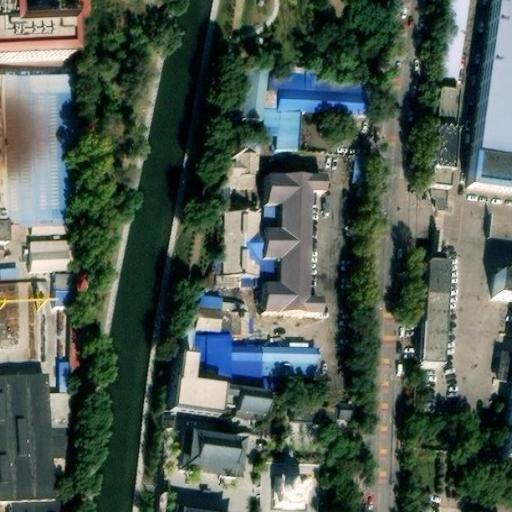building: (466, 0, 512, 197), (261, 176, 321, 316), (263, 67, 365, 115), (0, 0, 66, 65), (428, 0, 467, 91), (44, 385, 71, 501), (168, 365, 217, 426), (431, 92, 457, 196), (420, 263, 445, 364), (221, 207, 259, 271), (286, 382, 336, 427), (185, 448, 242, 487), (259, 341, 316, 375), (26, 236, 78, 273), (270, 467, 312, 512), (263, 110, 295, 162), (197, 339, 228, 390), (228, 347, 259, 390), (242, 70, 263, 125), (62, 310, 82, 367), (219, 299, 247, 339), (234, 397, 269, 428), (486, 199, 512, 238), (48, 271, 75, 308), (196, 273, 219, 310), (235, 144, 257, 181), (488, 266, 512, 298), (499, 375, 512, 426), (194, 310, 219, 335), (494, 346, 512, 380), (178, 499, 223, 512), (0, 261, 20, 279), (259, 375, 274, 390)
